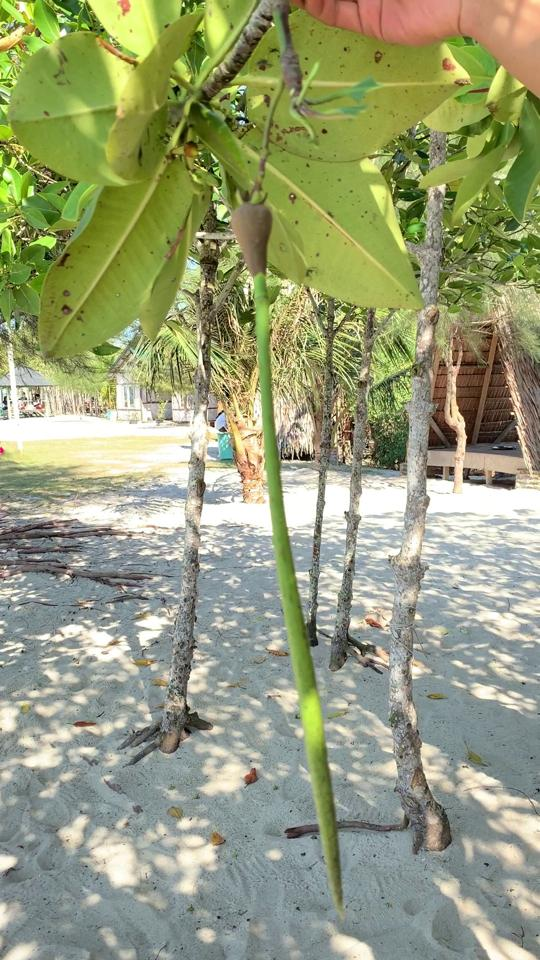setengah matang: (210, 169, 358, 919)
